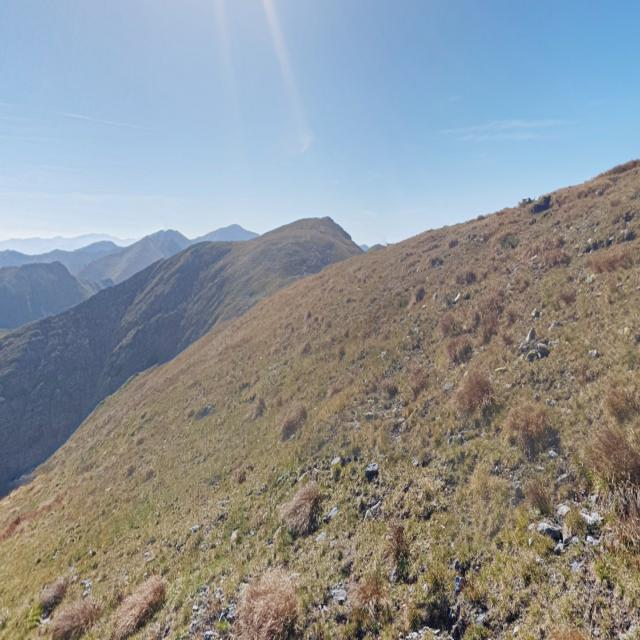Bystra: (196, 180, 274, 268)
Krzesanica: (266, 148, 395, 285)
Polska Tomanova: (2, 211, 108, 316)
Smreciny: (122, 198, 175, 274)
Velka Kamenista: (140, 192, 196, 270)
